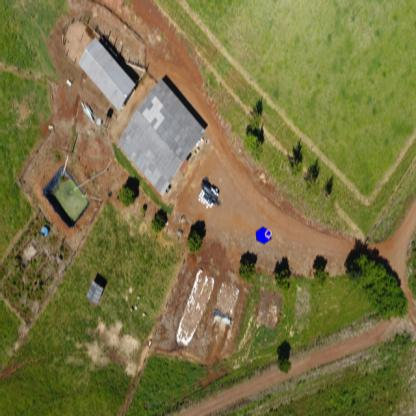Q: (265, 228, 273, 239)
hexagon: (256, 226, 272, 246)
